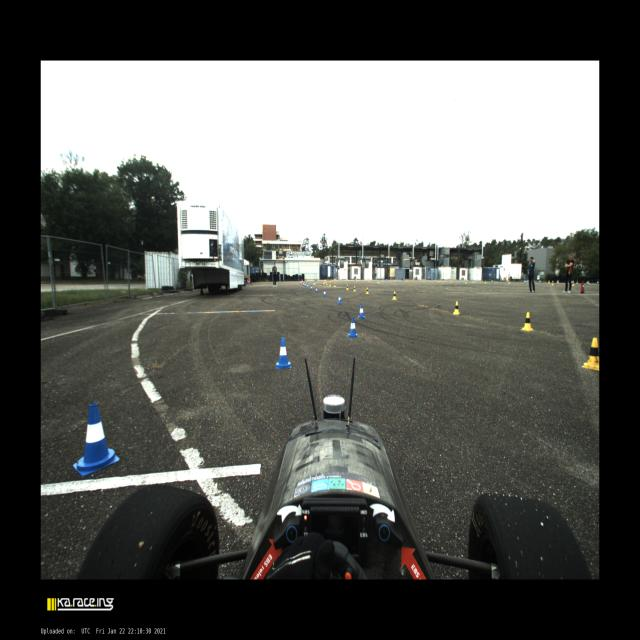blue_cone: (72, 402, 120, 476), (276, 337, 292, 370), (346, 317, 359, 337), (358, 304, 366, 319), (338, 294, 342, 304), (323, 289, 327, 297), (315, 287, 318, 293), (310, 286, 313, 290), (586, 280, 588, 286), (306, 284, 308, 288), (304, 283, 306, 287), (302, 282, 304, 286), (524, 280, 526, 284), (491, 279, 493, 283), (506, 280, 508, 284), (597, 280, 599, 284), (307, 280, 309, 283), (539, 280, 541, 283), (556, 280, 558, 283), (477, 279, 478, 283), (314, 280, 316, 282), (435, 279, 436, 282), (467, 279, 468, 282), (403, 279, 404, 281), (418, 279, 419, 281), (340, 278, 341, 280), (386, 279, 387, 281), (528, 280, 528, 282)
large_orange_cone: (301, 279, 303, 285), (324, 279, 326, 284)
yellow_cone: (582, 337, 600, 371), (521, 312, 534, 331), (453, 301, 460, 315), (393, 292, 397, 300), (353, 285, 356, 292), (366, 288, 369, 294), (551, 280, 554, 286), (334, 282, 336, 288), (346, 285, 348, 290), (572, 281, 574, 286), (329, 282, 331, 286), (465, 280, 467, 284), (450, 279, 452, 283), (548, 280, 550, 284), (326, 282, 328, 285), (394, 279, 396, 282), (588, 281, 590, 284), (576, 281, 578, 284), (508, 280, 509, 284), (558, 280, 559, 284), (485, 281, 486, 284), (423, 279, 424, 282), (438, 279, 439, 282), (406, 279, 407, 282), (331, 279, 332, 282), (341, 279, 342, 282), (356, 279, 357, 282), (369, 279, 370, 282), (382, 279, 383, 282)
